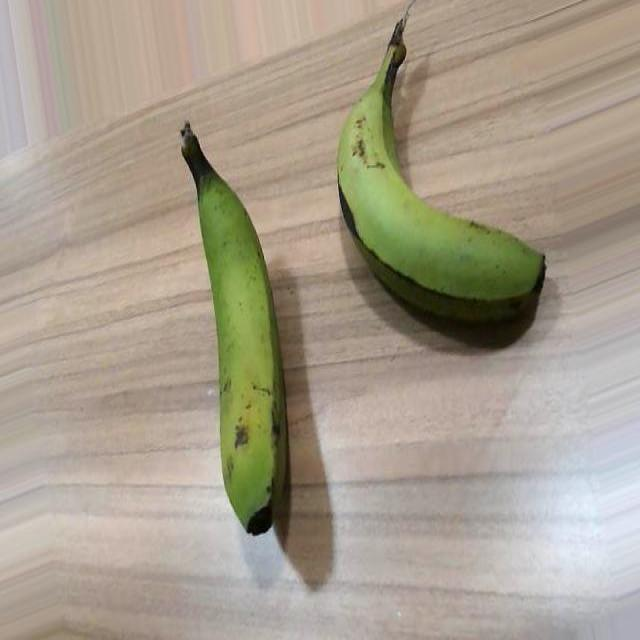Unripe: (337, 20, 547, 332), (179, 118, 291, 536)
